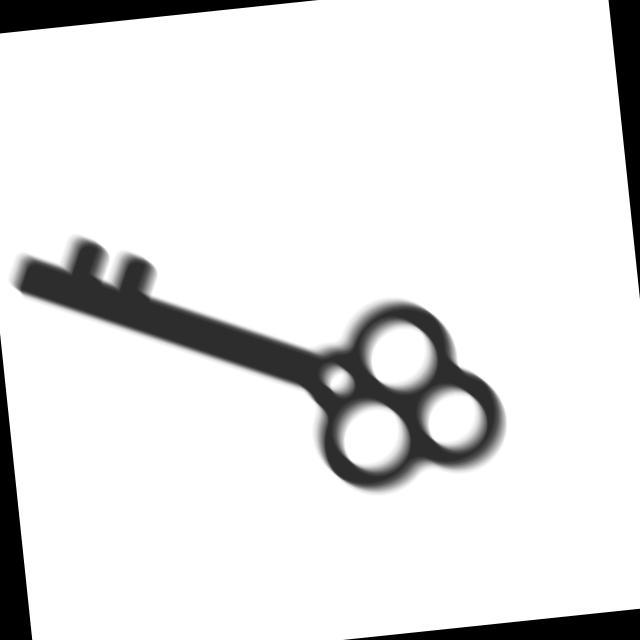key: (3, 180, 520, 541)
